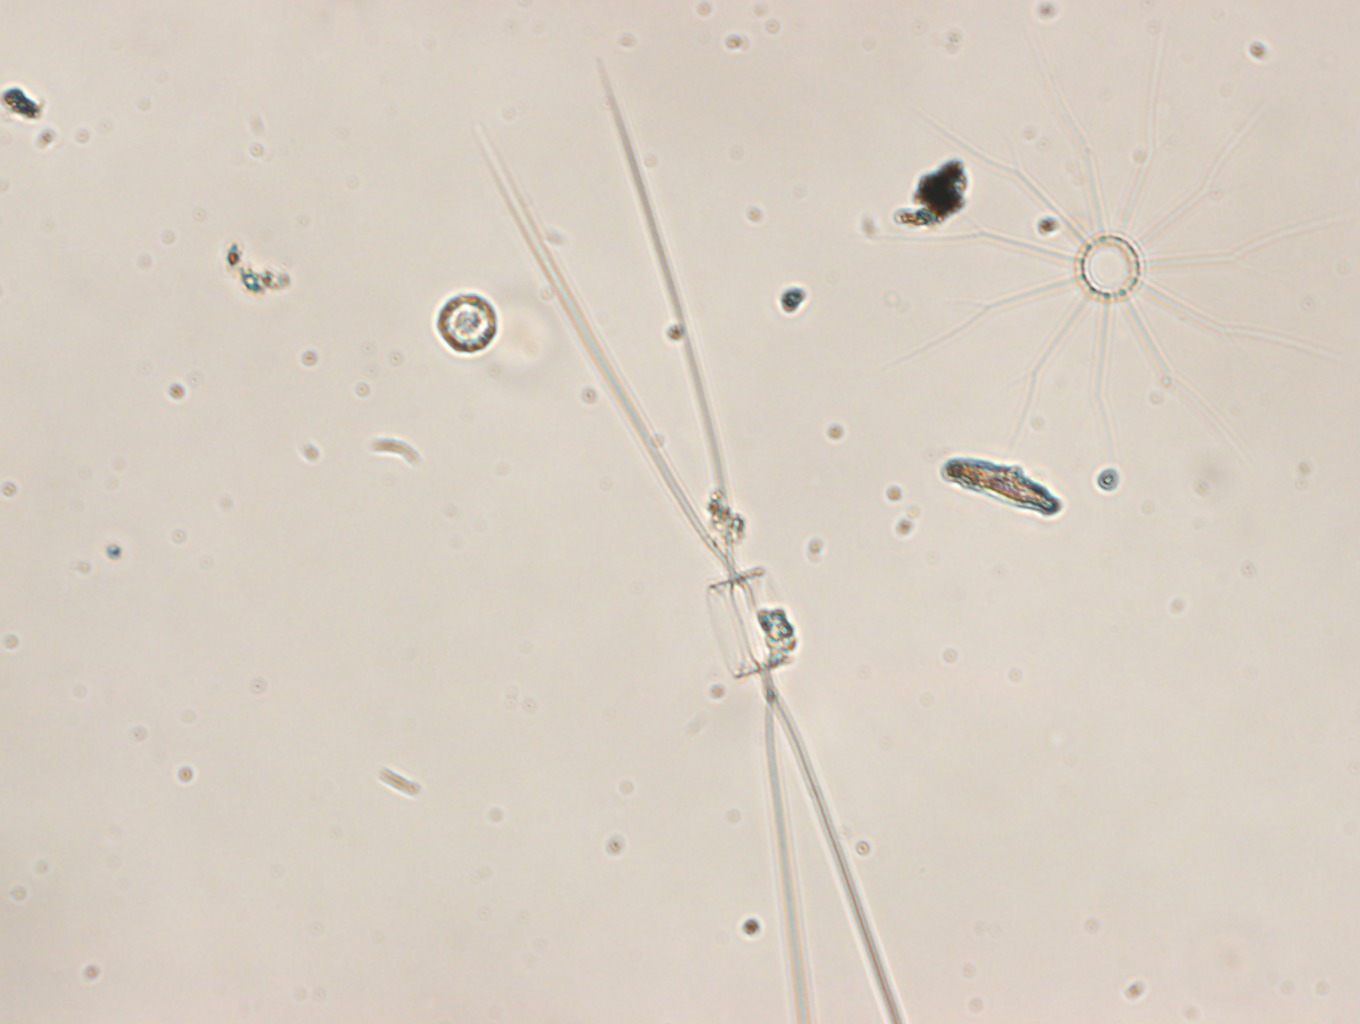bacteriastrum: (906, 23, 1317, 465)
chaetoceros: (479, 65, 906, 1024)
